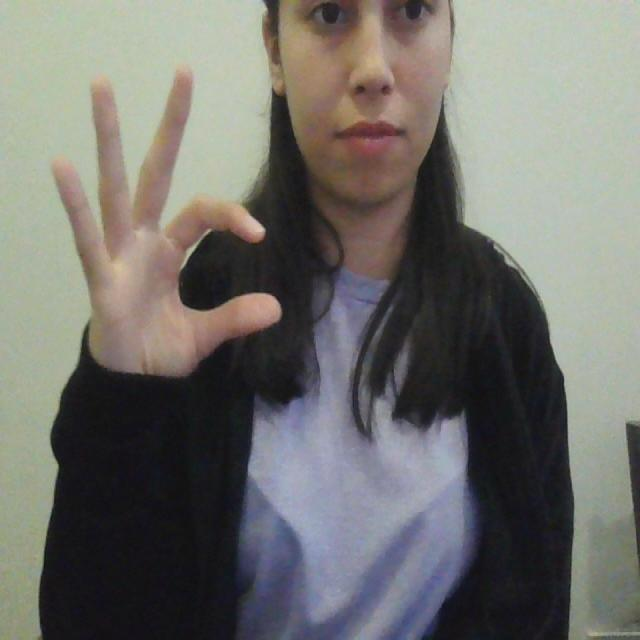Tuvalet: (31, 53, 302, 420)
